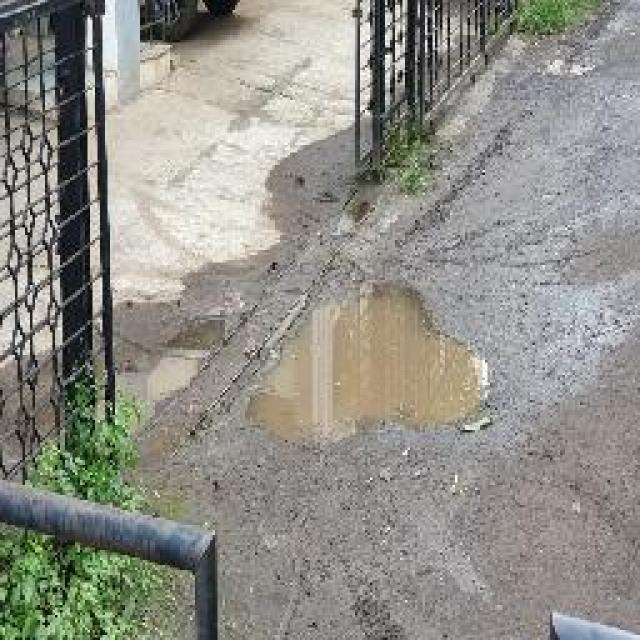puddle: (249, 283, 492, 446)
